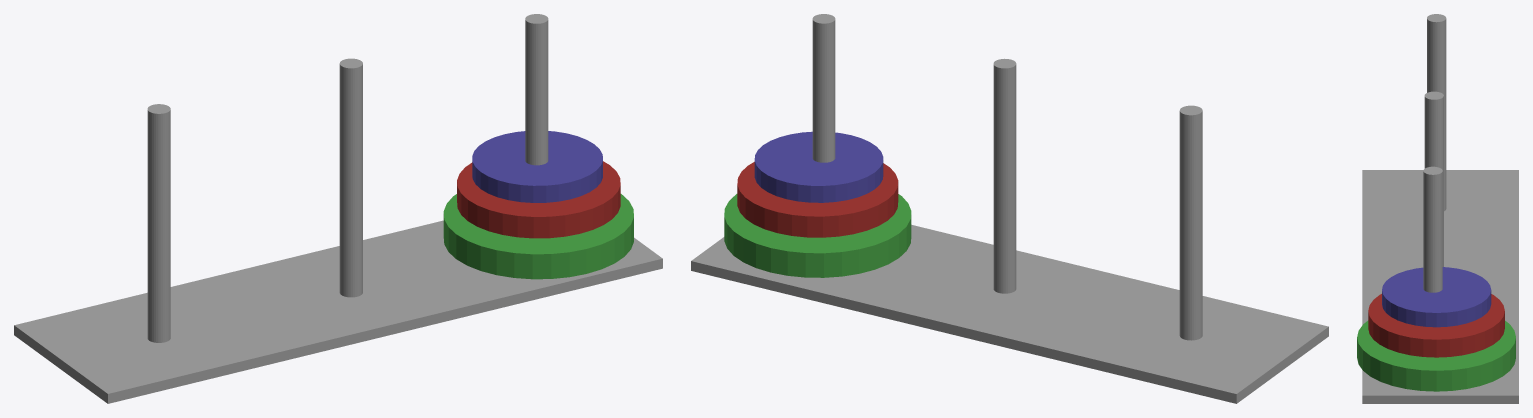
Rendered from puzzle.obj.
The picture shows the model from 3 angles, left to right: view 1: azimuth 30°, elevation 25°; view 2: azimuth 150°, elevation 25°; view 3: azimuth 270°, elevation 25°; orthographic projection. The views are drawn at different scales.
Visible parts, largest first — view 1: Stand, Green, Blue, Red; view 2: Stand, Green, Blue, Red; view 3: Stand, Green, Blue, Red.
Part boxes in pixels (bbox=[...]): Stand: bbox=[14, 14, 662, 403]; Green: bbox=[443, 194, 633, 279]; Blue: bbox=[472, 131, 602, 202]; Red: bbox=[457, 161, 620, 238]; Stand: bbox=[691, 14, 1328, 403]; Green: bbox=[724, 194, 911, 277]; Blue: bbox=[754, 131, 883, 202]; Red: bbox=[737, 162, 898, 237]; Stand: bbox=[1362, 14, 1518, 403]; Green: bbox=[1357, 320, 1515, 391]; Blue: bbox=[1382, 267, 1491, 327]; Red: bbox=[1368, 294, 1504, 357].
Bounding box in the file's own units: 9.82 × 4.02 × 2.96.
